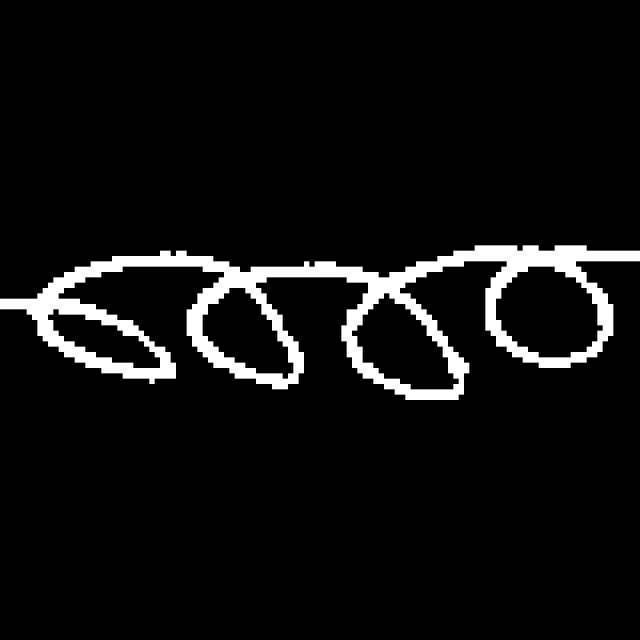inductor: (9, 223, 639, 415)
